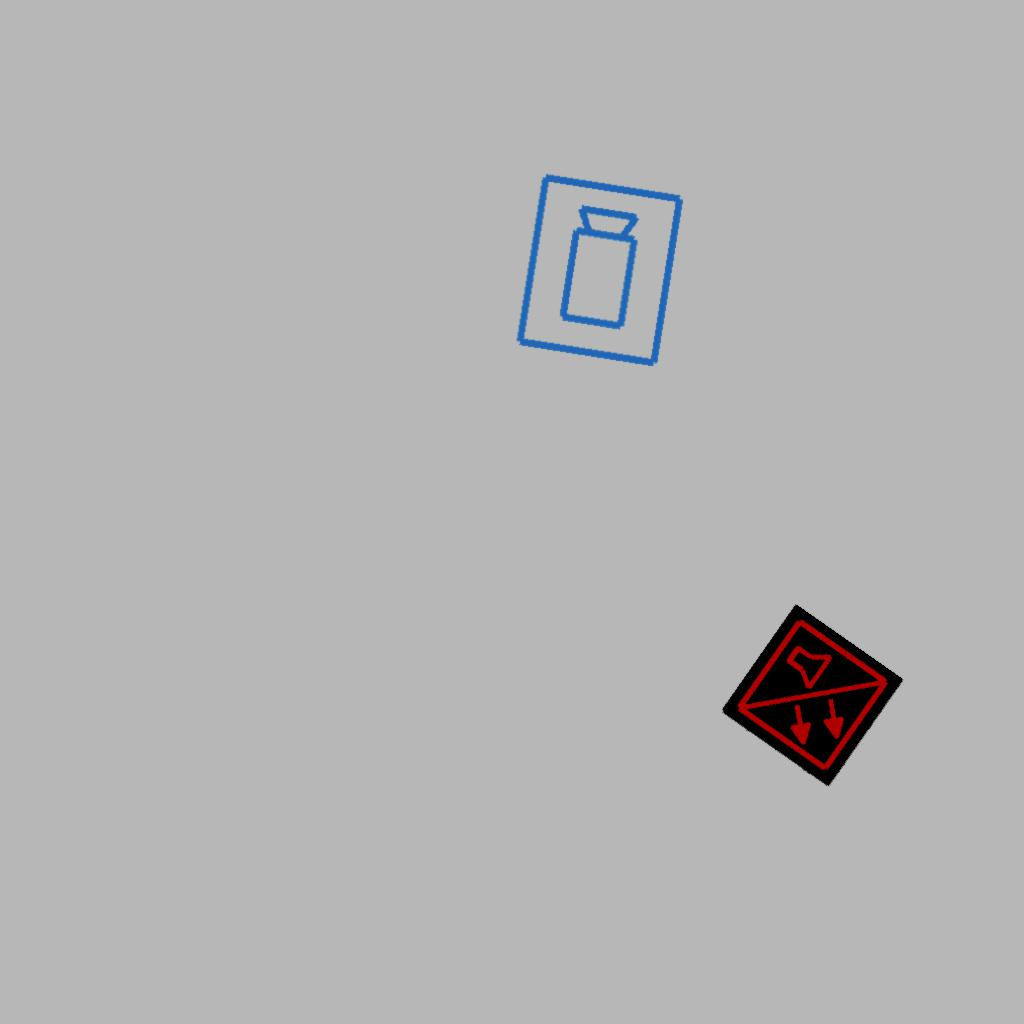KFO_Kamera_mit_Festobjektiv: (510, 169, 692, 373)
OKW_Multisensormelder_(Kombination_optischer_Rauch-Kahlenmonoxid_Waerme-Melder): (720, 604, 904, 788)
